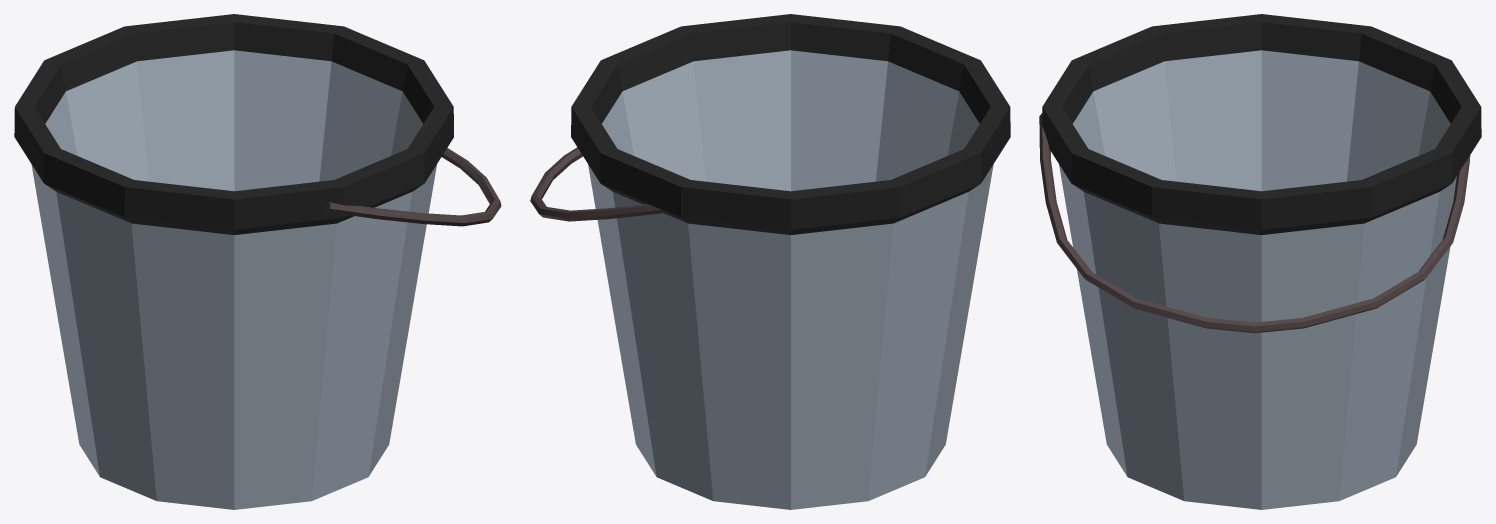
Rendered from SM_bucket_01.fbx.
The picture shows the model from 3 angles, left to right: view 1: azimuth 30°, elevation 25°; view 2: azimuth 150°, elevation 25°; view 3: azimuth 270°, elevation 25°; orthographic projection.
Parts seen in each view (by area): view 1: bucket_01; view 2: bucket_01; view 3: bucket_01.
Part boxes in pixels (x1=…): bucket_01: x1=14, y1=14, x2=501, y2=509; bucket_01: x1=530, y1=14, x2=1010, y2=509; bucket_01: x1=1039, y1=14, x2=1481, y2=509.
Size of the model in its own units: 92.19 by 70.61 by 83.78.
